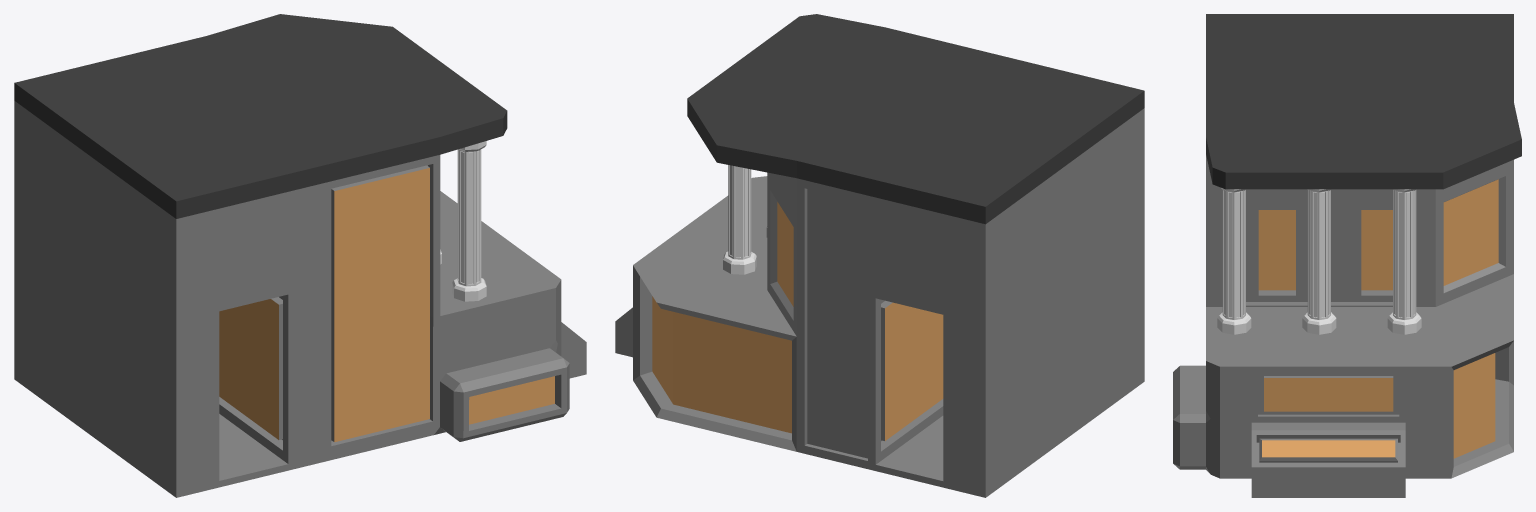
The model's file is Дом 6.fbx.
3 renders of one model, left to right at view 1: azimuth 30°, elevation 25°; view 2: azimuth 150°, elevation 25°; view 3: azimuth 270°, elevation 25°, orthographic. The views are drawn at different scales.
Parts seen in each view (by area): view 1: Cube, Cylinder; view 2: Cube, Cylinder.002; view 3: Cube, Cylinder, Cylinder.001, Cylinder.002.
Part boxes in pixels (<box>): Cube: <box>14,14,586,497</box>; Cylinder: <box>452,141,486,301</box>; Cube: <box>615,14,1144,497</box>; Cylinder.002: <box>723,165,756,274</box>; Cube: <box>1173,14,1521,497</box>; Cylinder: <box>1217,188,1251,334</box>; Cylinder.001: <box>1302,189,1336,334</box>; Cylinder.002: <box>1387,189,1421,334</box>.
Size of the model in its own units: 1078 by 704 by 788.
